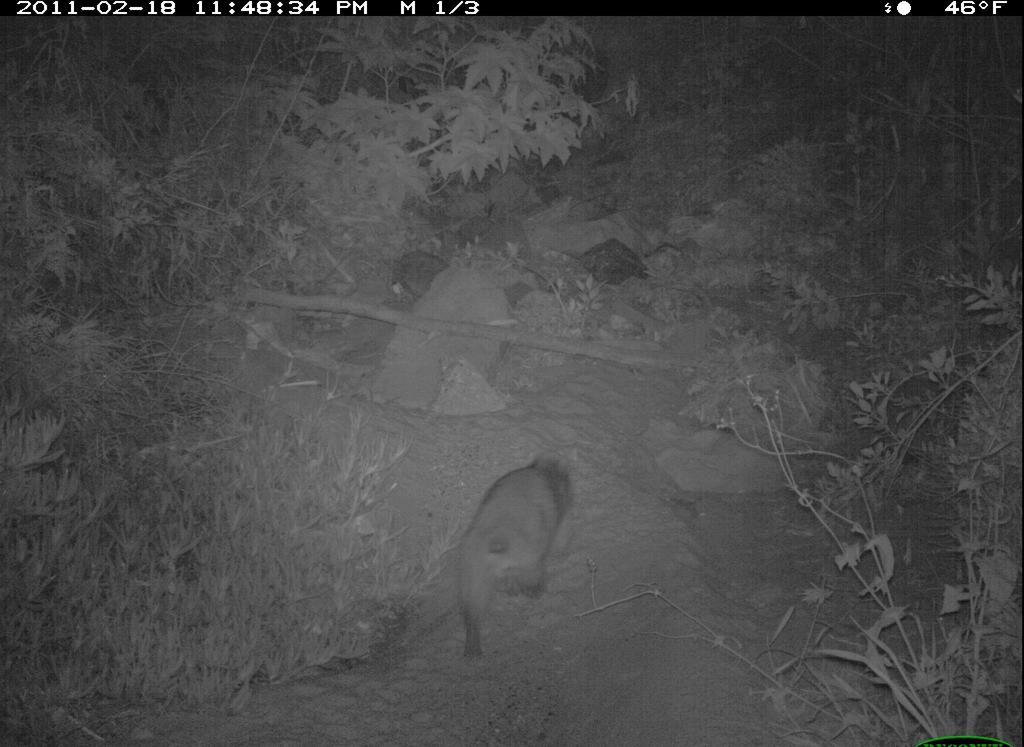raccoon: (441, 445, 584, 670)
